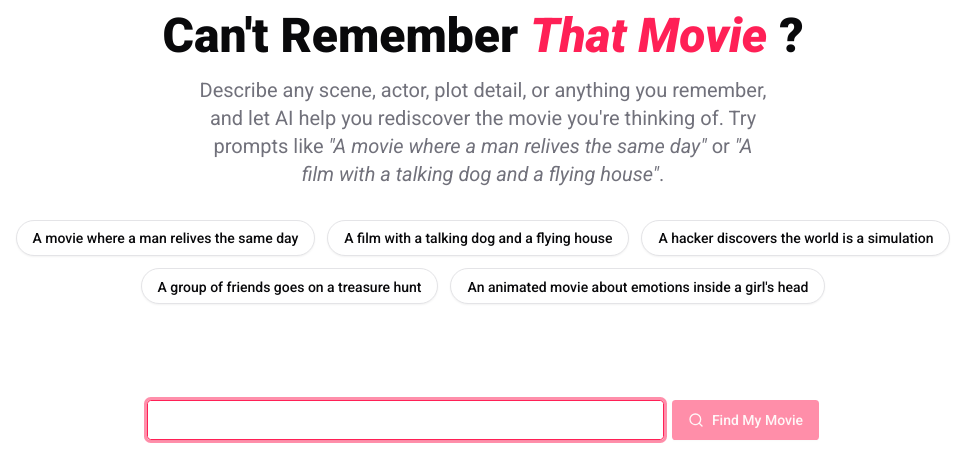
Search Page › disables the search button when loading or input is empty and enables it when input is not empty and not loading
This screenshot has width=967, height=460.
Check: the button "Find My Movie" is disabled, box [672,400,819,440]
Type "space adventure" into the text box named "movie description" at (405, 420), box [147,400,664,440]
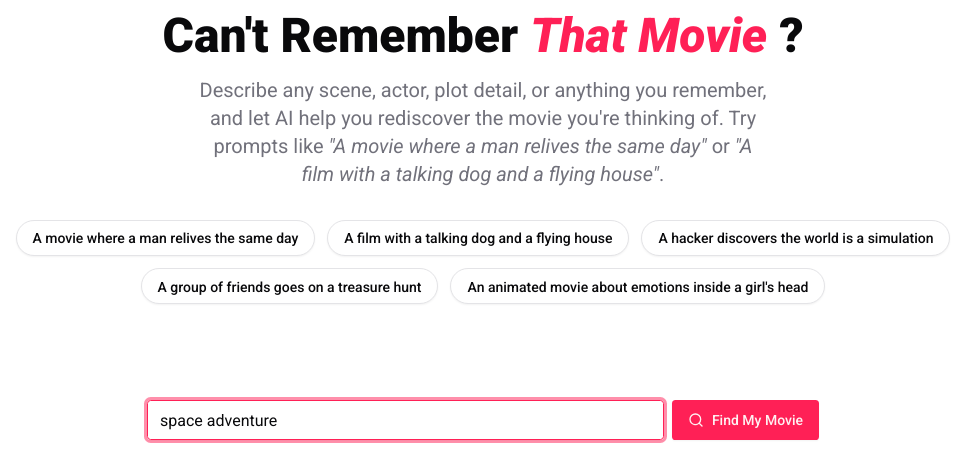
Check: the button "Find My Movie" is enabled, box [672,400,819,440]
